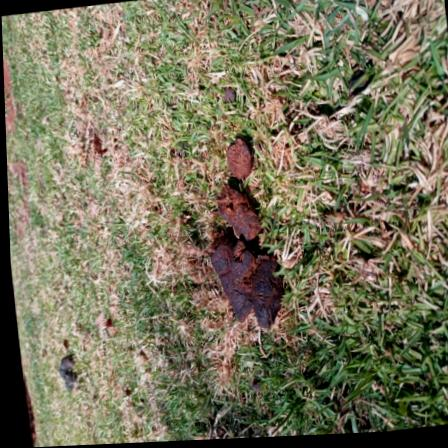dog-poop: (188, 135, 268, 342), (48, 353, 83, 397)
